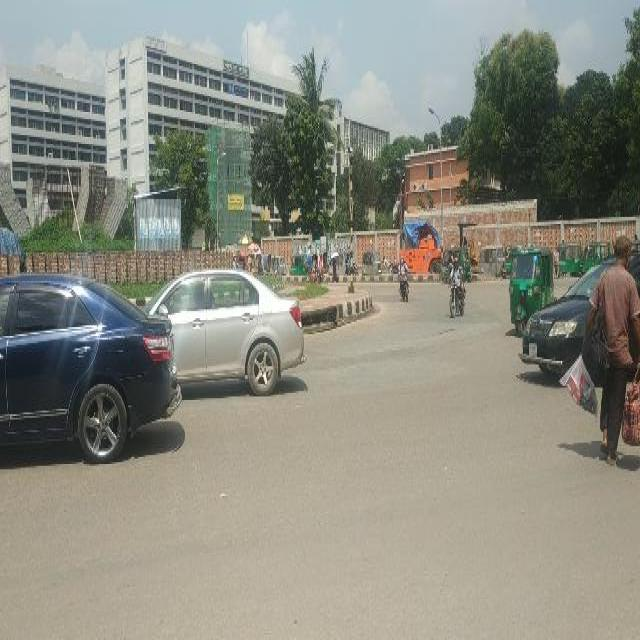bike: (449, 257, 468, 317), (397, 255, 411, 305)
vehicle: (1, 275, 184, 469), (150, 266, 304, 397), (518, 270, 593, 379), (509, 249, 557, 304), (479, 247, 507, 281), (558, 244, 585, 278), (305, 254, 329, 286), (362, 250, 382, 275), (461, 247, 473, 285), (291, 255, 306, 278), (272, 253, 287, 275)
